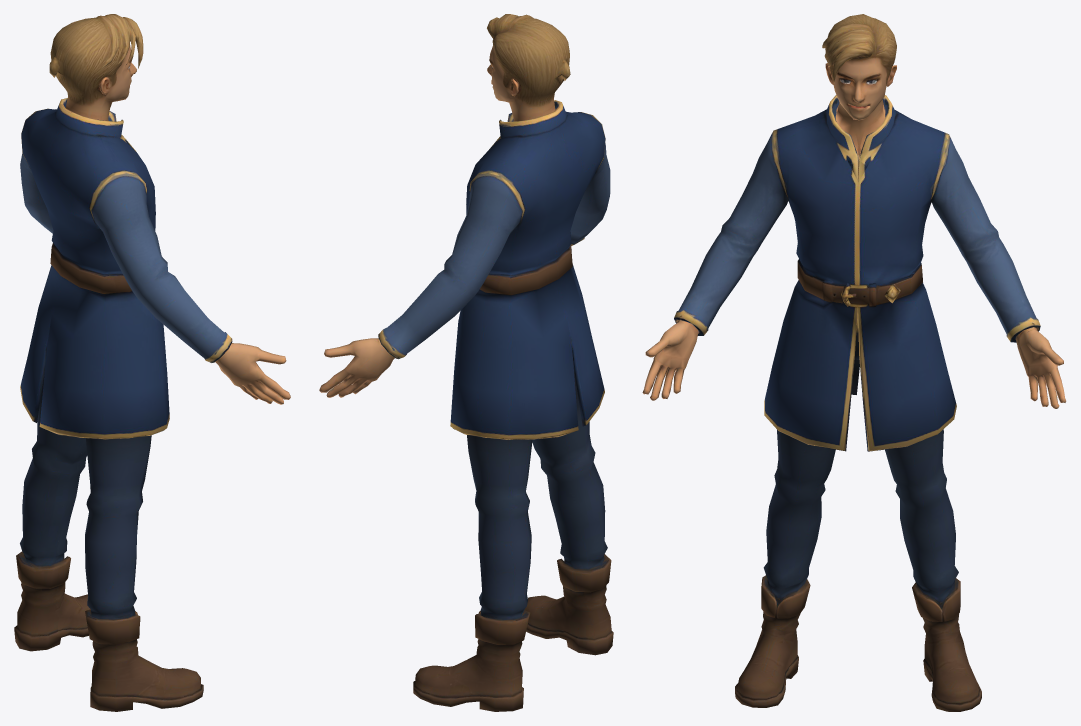
Rendered from model_url.glb.
3 views of the same model, side by side, from view 1: azimuth 30°, elevation 25°; view 2: azimuth 150°, elevation 25°; view 3: azimuth 270°, elevation 25° (orthographic).
Visible parts, largest first — view 1: tripo_node_b9a6cc4c-1da0-40d7-9fee-261f0ec9fe33; view 2: tripo_node_b9a6cc4c-1da0-40d7-9fee-261f0ec9fe33; view 3: tripo_node_b9a6cc4c-1da0-40d7-9fee-261f0ec9fe33.
Part boxes in pixels (bbox=[...]): tripo_node_b9a6cc4c-1da0-40d7-9fee-261f0ec9fe33: bbox=[14, 14, 290, 711]; tripo_node_b9a6cc4c-1da0-40d7-9fee-261f0ec9fe33: bbox=[319, 14, 613, 711]; tripo_node_b9a6cc4c-1da0-40d7-9fee-261f0ec9fe33: bbox=[642, 14, 1066, 711].
Bounding box in the file's own units: 0.2662 × 0.998 × 0.5794.
1 material, 1 textured.
